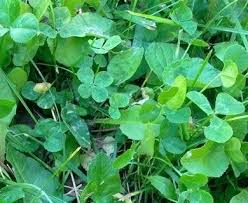4-clover: (75, 67, 114, 101)
